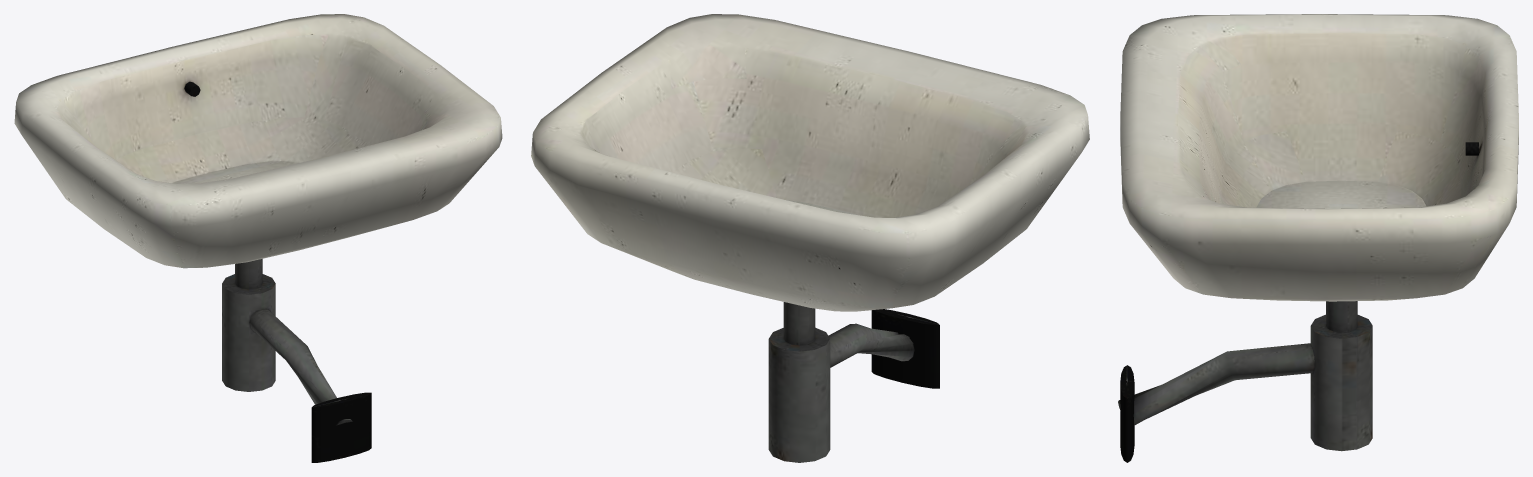
File: sink_wall_rect_lod1_web.glb
3 views of the same model, side by side, from view 1: azimuth 30°, elevation 25°; view 2: azimuth 150°, elevation 25°; view 3: azimuth 270°, elevation 25° (orthographic). The views are drawn at different scales.
Visible parts, largest first — view 1: SinkWallRect_Body; view 2: SinkWallRect_Body; view 3: SinkWallRect_Body.
Part boxes in pixels (x1=…): SinkWallRect_Body: x1=14, y1=14, x2=502, y2=462; SinkWallRect_Body: x1=531, y1=14, x2=1089, y2=462; SinkWallRect_Body: x1=1118, y1=14, x2=1518, y2=462.
Bounding box in the file's own units: 0.555 × 0.416 × 0.4526.
Materials: 2 (2 with a texture image).
